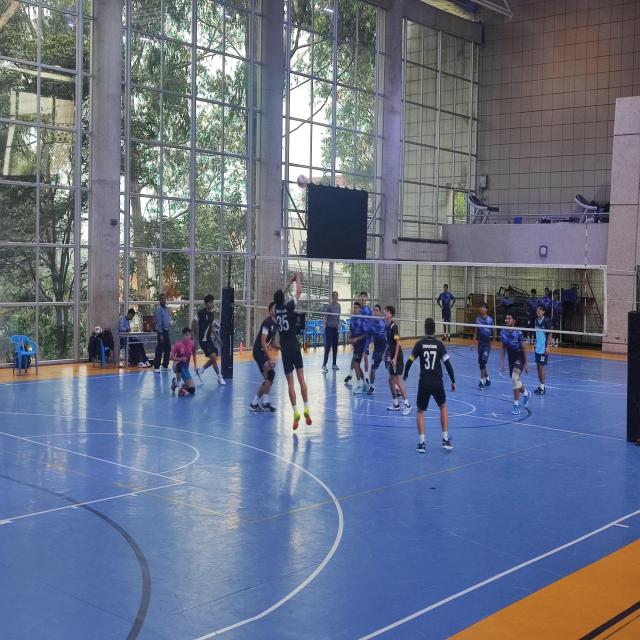volleyball: (297, 175, 307, 188), (94, 326, 102, 336)
